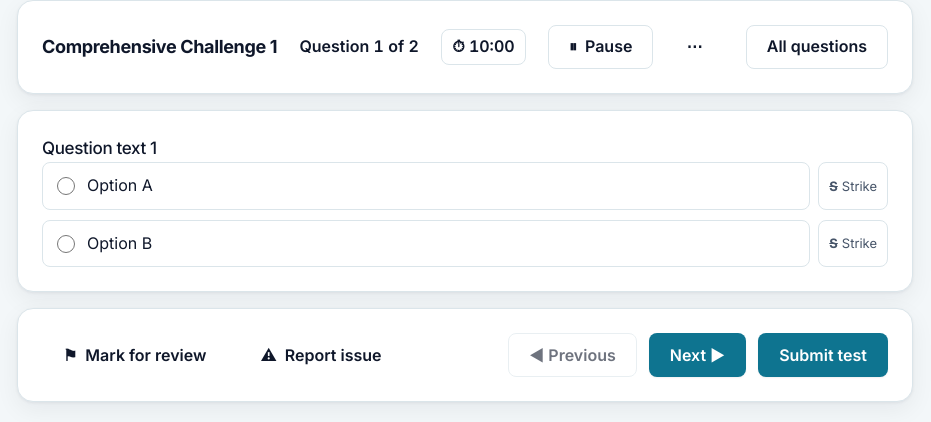
Scenario: AttemptPlayer timers and pause › closes the ⋯ menu with Escape and returns focus to its button
Expected: the heading "Question text 1" is shown, [42,138,157,158]
Click the button named "More options" at point(694, 47), box [665,25,723,69]
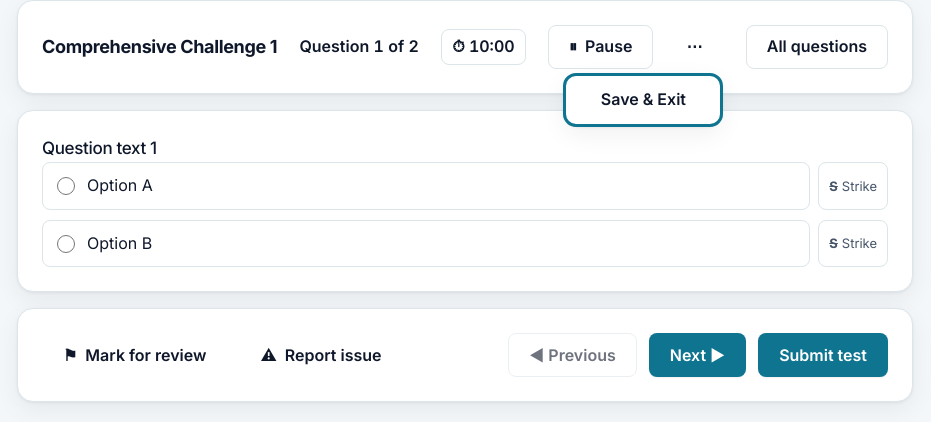
Press Escape
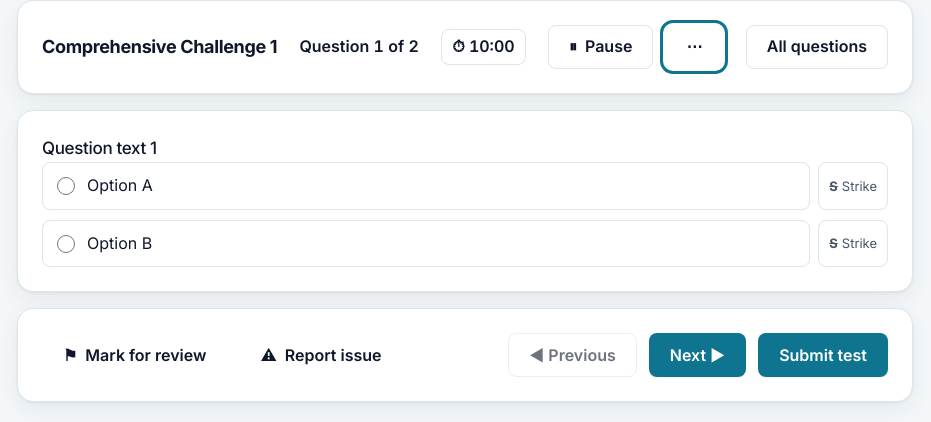
Expected: the menu is gone
